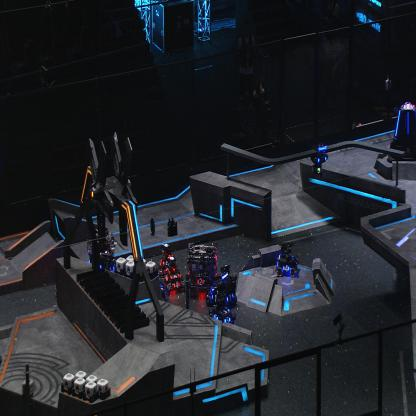car: (86, 226, 118, 283), (185, 242, 219, 293), (206, 264, 238, 306), (207, 293, 235, 330), (161, 256, 185, 296), (275, 242, 299, 277), (144, 267, 166, 302), (156, 242, 177, 276)
